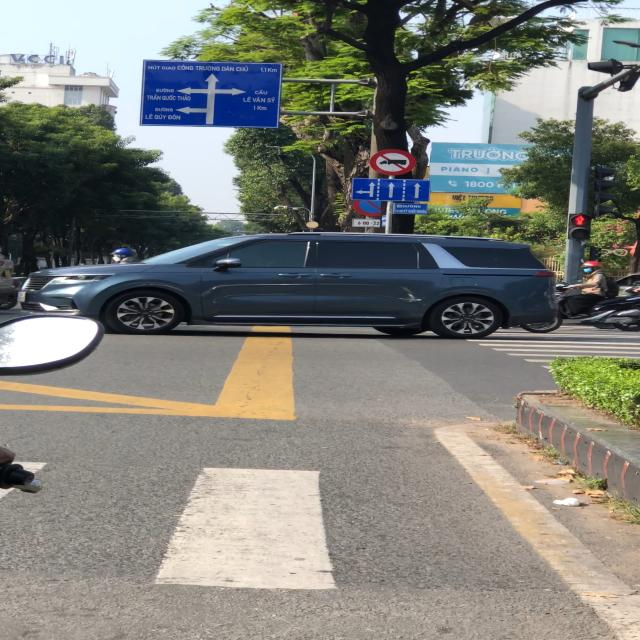Bien bao cam xe so-mi ro-mooc: (367, 147, 419, 177)
